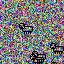sheep: (19, 23, 33, 34), (50, 43, 64, 54), (32, 51, 46, 61), (30, 54, 44, 64)
